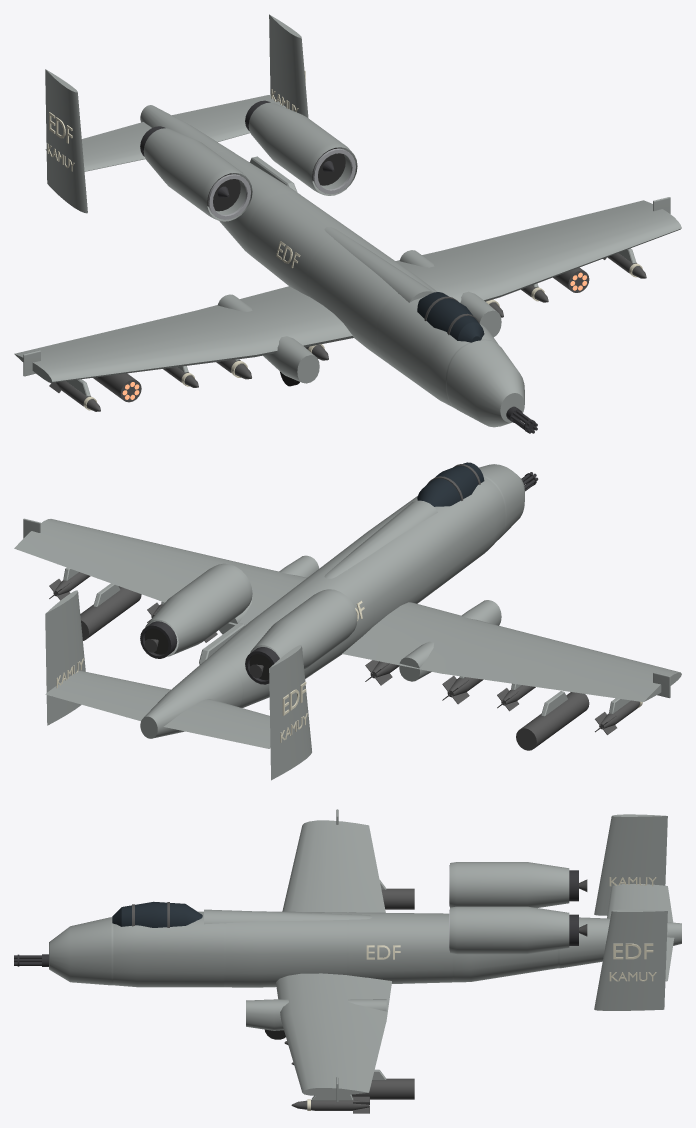
File: kamuy.glb
The picture shows the model from 3 angles, top to bottom: view 1: azimuth 30°, elevation 25°; view 2: azimuth 150°, elevation 25°; view 3: azimuth 270°, elevation 25°; orthographic projection. The views are drawn at different scales.
Visible parts, largest first — view 1: Body; view 2: Body; view 3: Body.
Boxes of the visible parts, left/top/right/bottom form: Body: left=14, top=14, right=681, bottom=433; Body: left=14, top=462, right=681, bottom=780; Body: left=14, top=809, right=681, bottom=1113.
Size of the model in its own units: 18.5 by 4.4 by 19.
